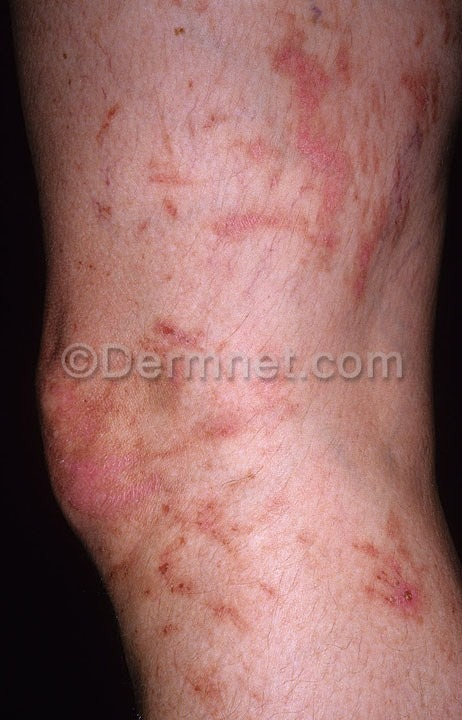Melasma: (35, 381, 462, 720), (78, 0, 462, 339)
